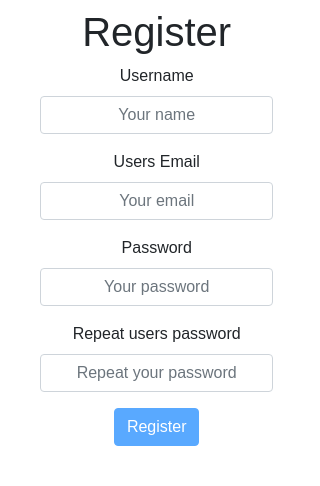
Test case: RegistrationPage › Interactions › hides validation error when user changes the content of email
The image size is (320, 486).
Type "my-name" into the field with placeholder "Your name".
click(157, 115); type("my-name")  # box [40, 96, 273, 134]
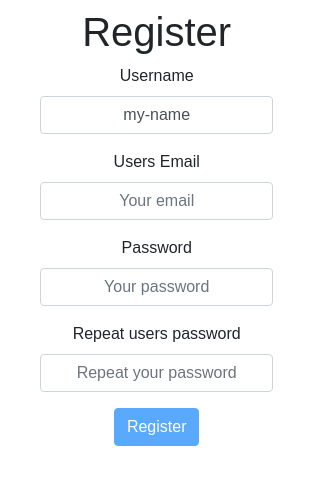
Type "my-email" into the field with placeholder "Your email".
click(157, 201); type("my-email")  # box [40, 182, 273, 220]
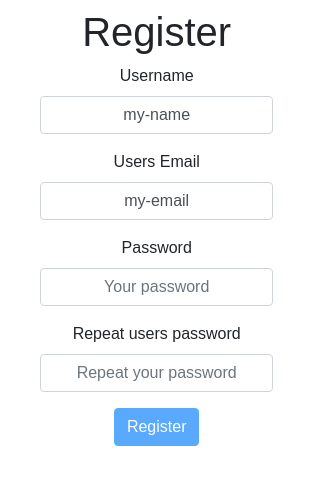
Type "P4ssword" into the password field with placeholder "Your password".
click(157, 287); type("P4ssword")  # box [40, 268, 273, 306]
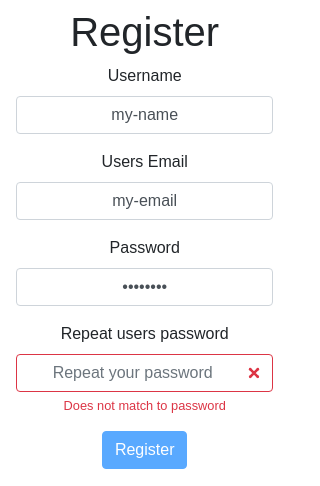
Type "P4ssword" into the password field with placeholder "Repeat your password".
click(145, 373); type("P4ssword")  # box [16, 354, 273, 392]
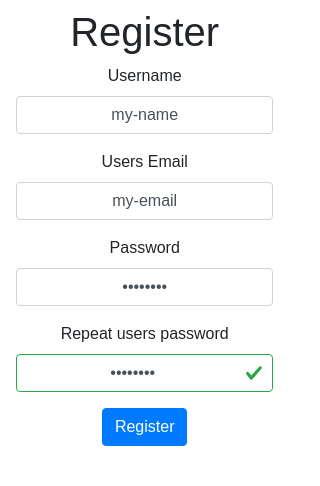
Click the button "Register".
click(145, 427)  # box [102, 408, 188, 446]
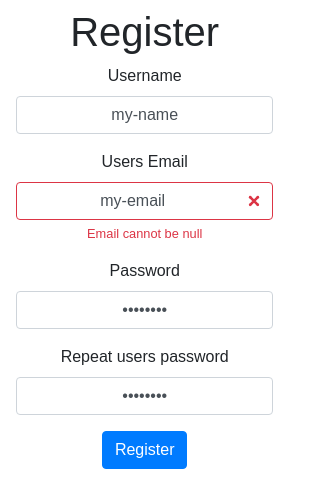
Replace the text in the field with placeholder "Your email" below "Users Email" with "email updated" at (145, 201), box [16, 182, 273, 220]
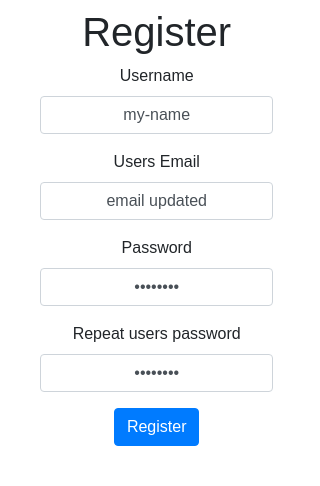
Expected: the text "cannot be null" is gone
